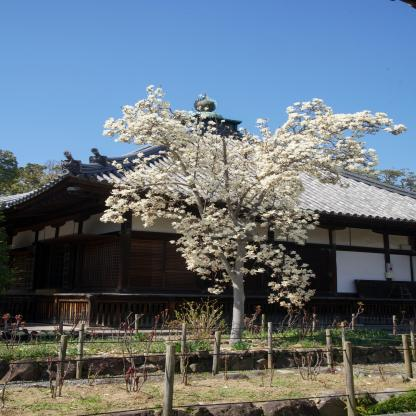Mokuren: (100, 84, 407, 314)
